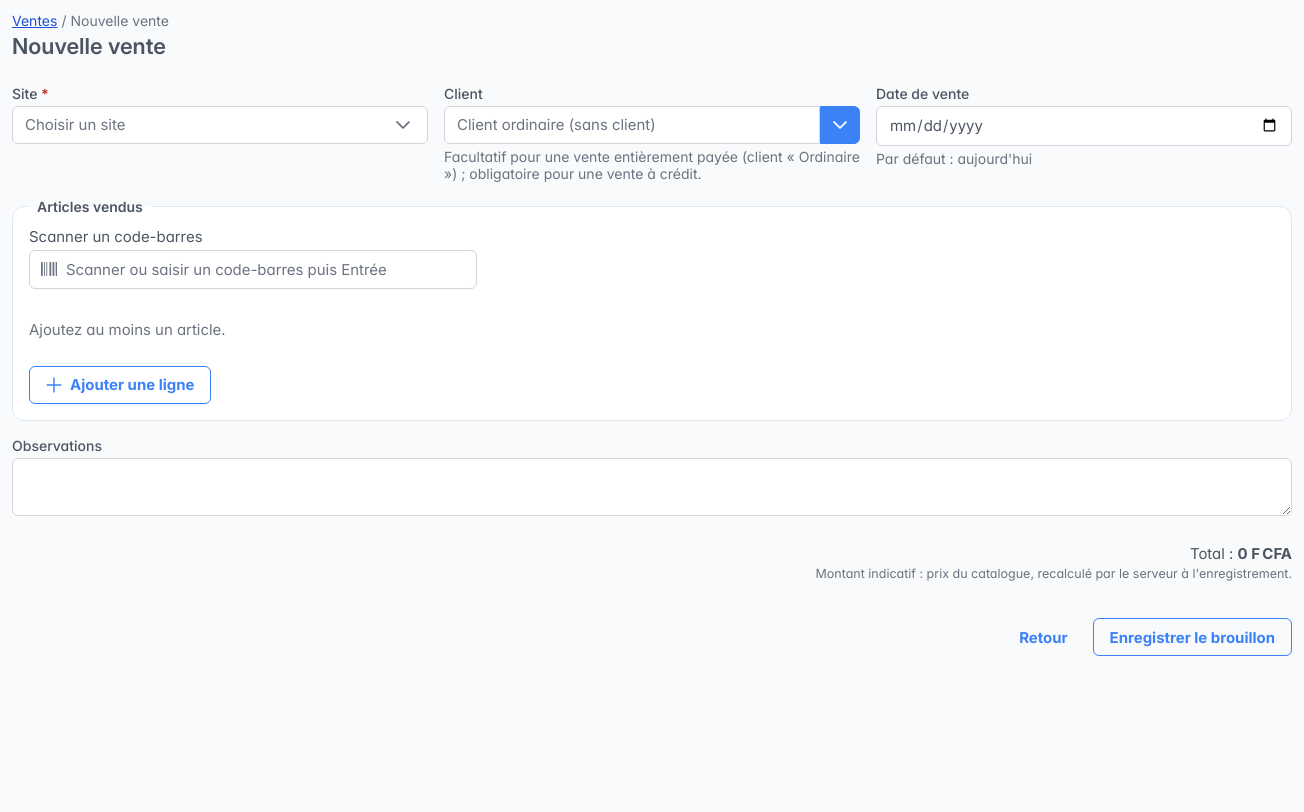
Scenario: scan des écrans opérationnels (Lot 3-D) › vente : conditionnement au prix non configuré refusé ; carton ajouté avec sa présentation
This screenshot has width=1304, height=812.
In the field labelled "Scanner un code-barres": (253, 269) x1=29 y1=250 x2=477 y2=289, type "F-1"
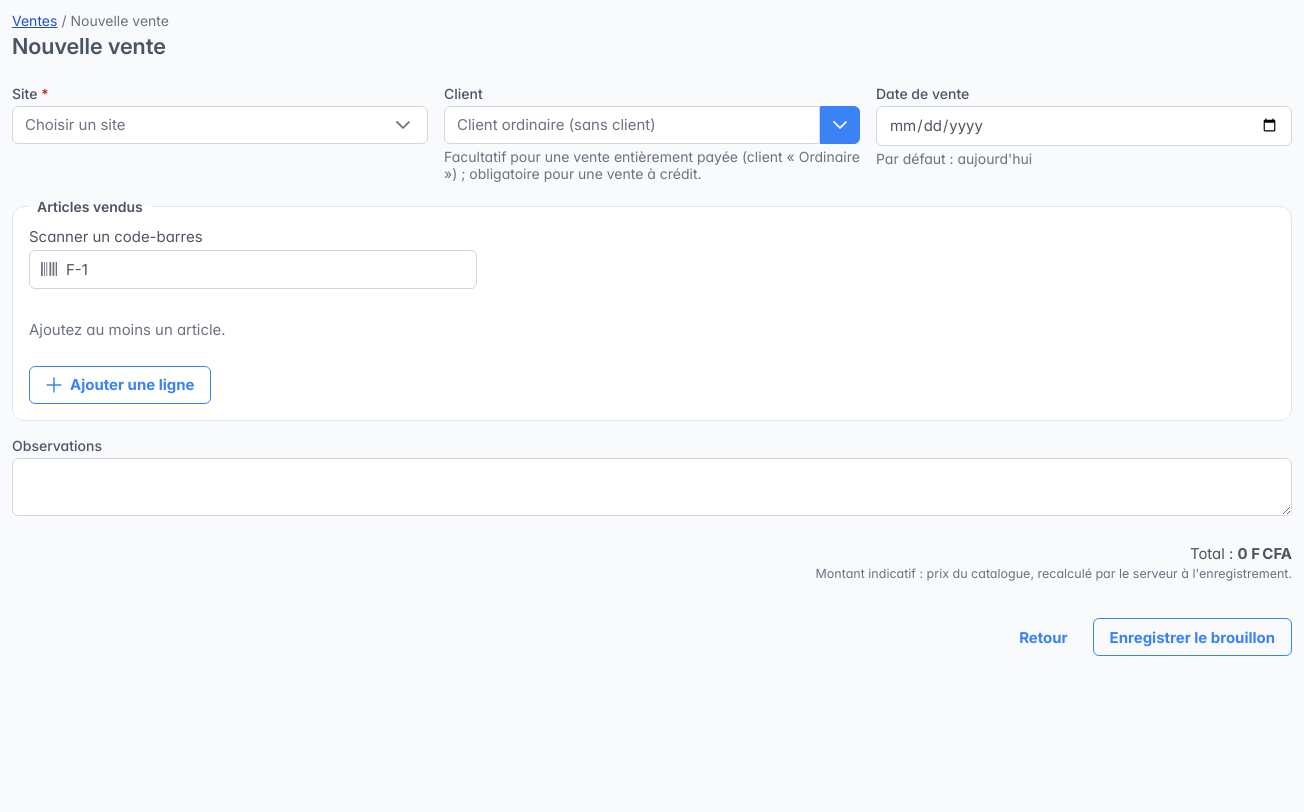
Press Enter in the field labelled "Scanner un code-barres", box x1=29 y1=250 x2=477 y2=289
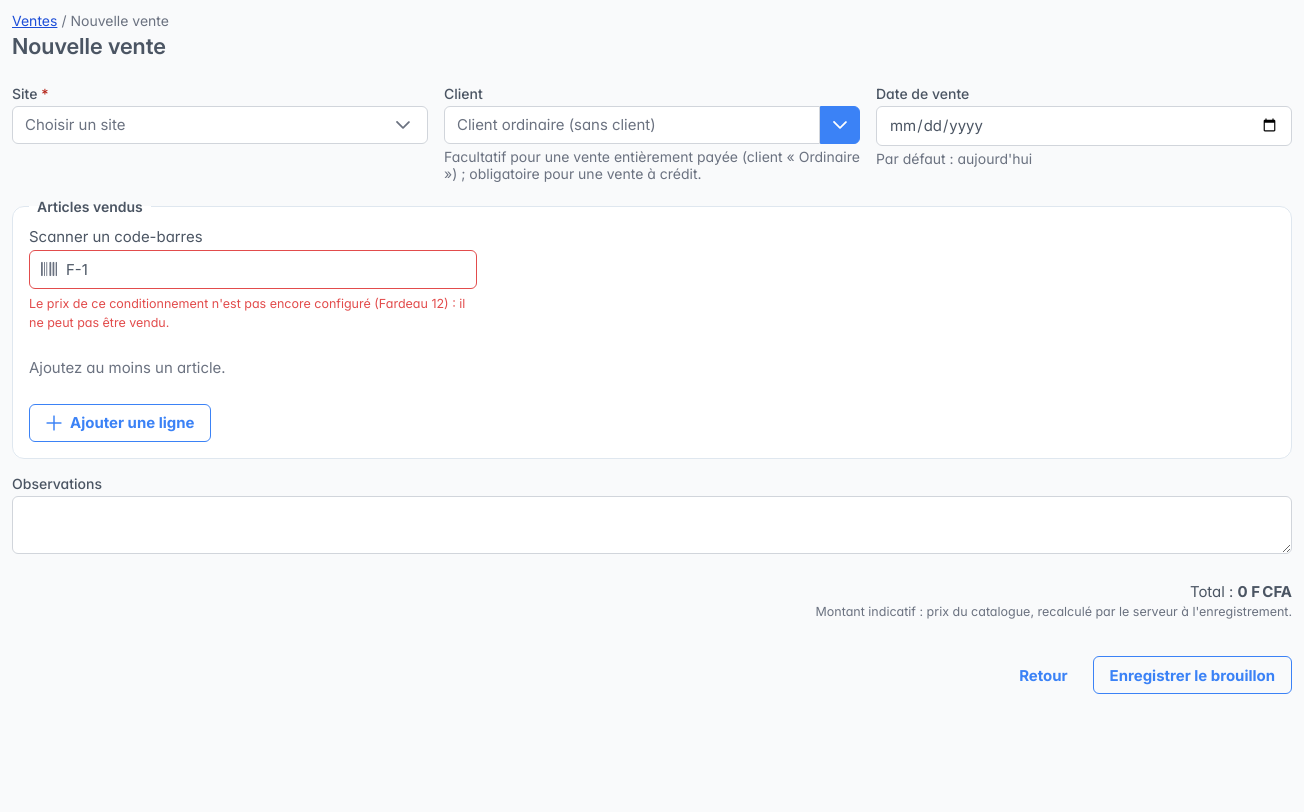
Expected: the text "Ajoutez au moins un article." is shown, x1=29 y1=358 x2=226 y2=377
Now the message shows "Le prix de ce conditionnement n'est pas encore configuré (Fardeau 12)", box x1=29 y1=296 x2=465 y2=330
Replace the text in the field labelled "Scanner un code-barres" with "C-1": (253, 269) x1=29 y1=250 x2=477 y2=289
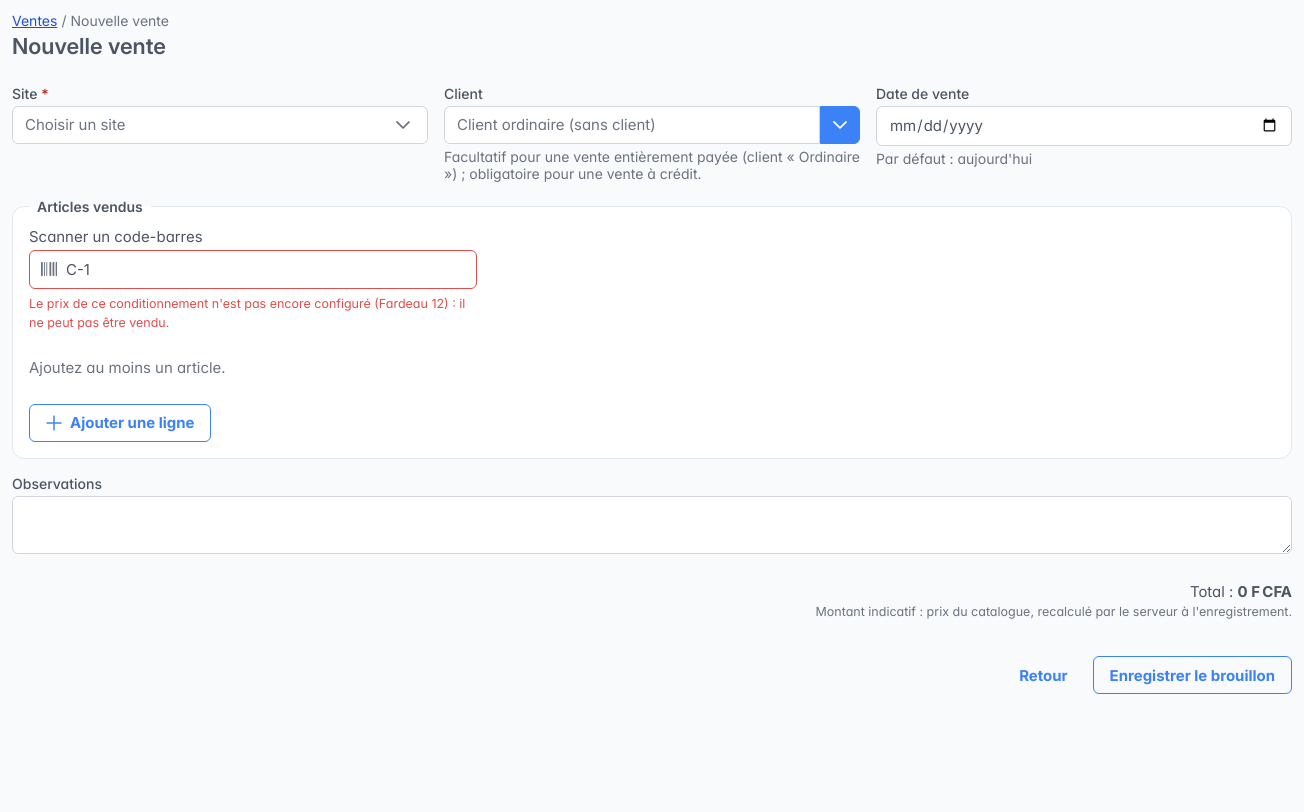
Press Enter in the field labelled "Scanner un code-barres", box x1=29 y1=250 x2=477 y2=289
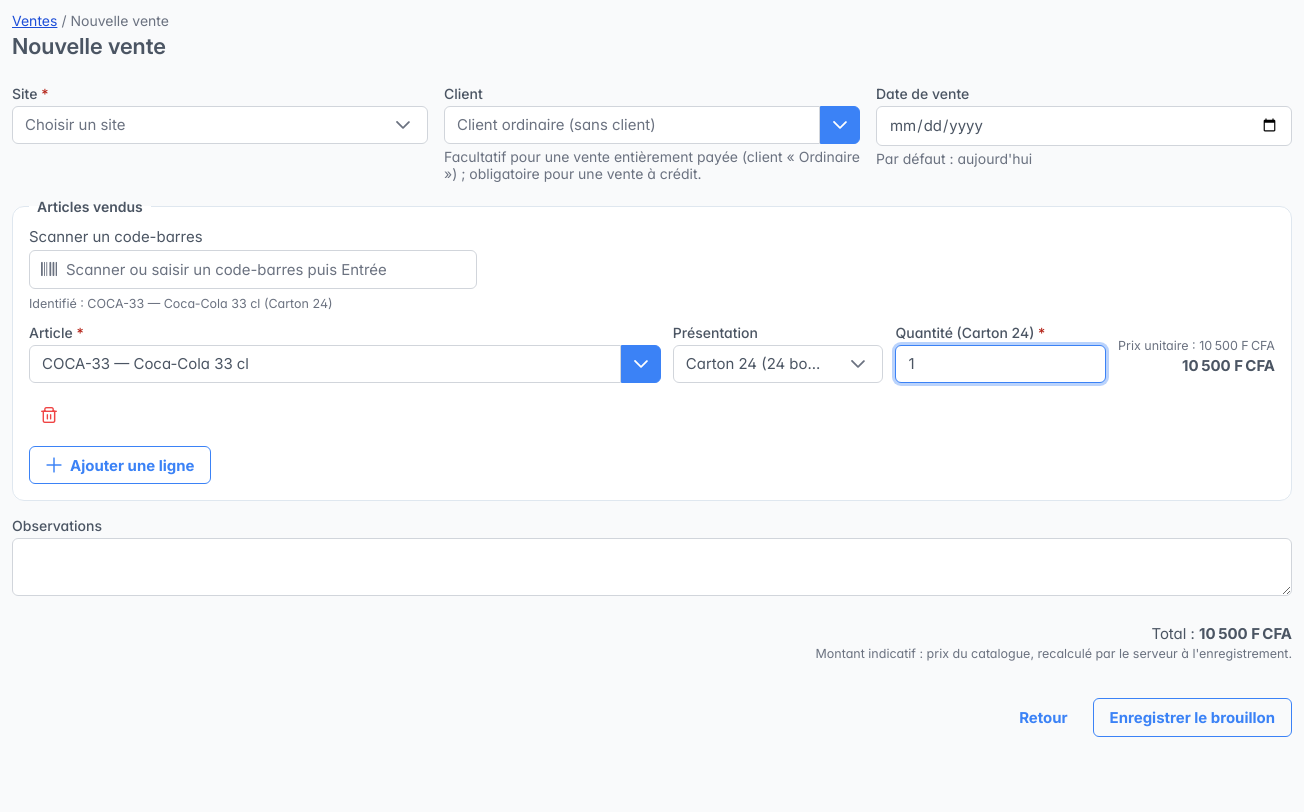
Now the field labelled "Quantité (Carton 24) *" holds "1", box x1=896 y1=345 x2=1106 y2=383
In the field labelled "Scanner un code-barres": (253, 269) x1=29 y1=250 x2=477 y2=289, type "C-1"
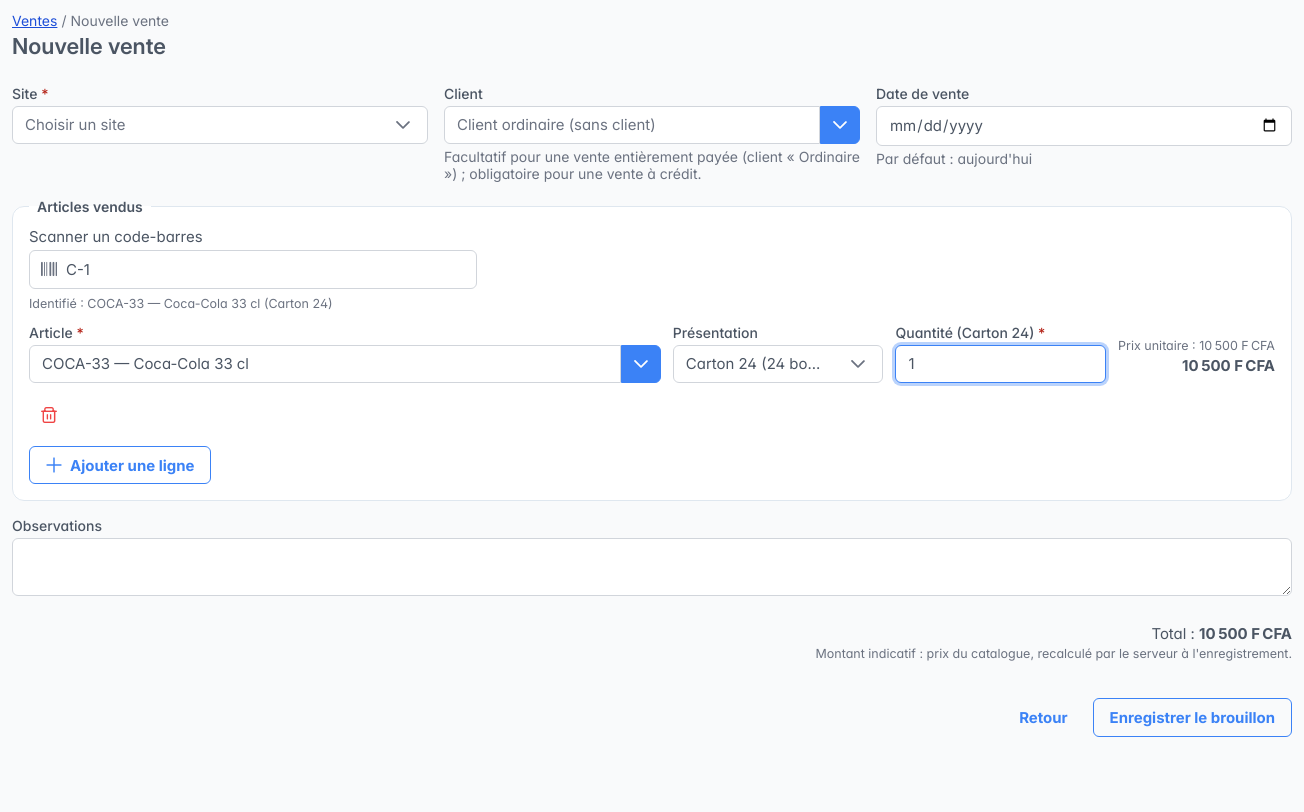
Press Enter in the field labelled "Scanner un code-barres", box x1=29 y1=250 x2=477 y2=289
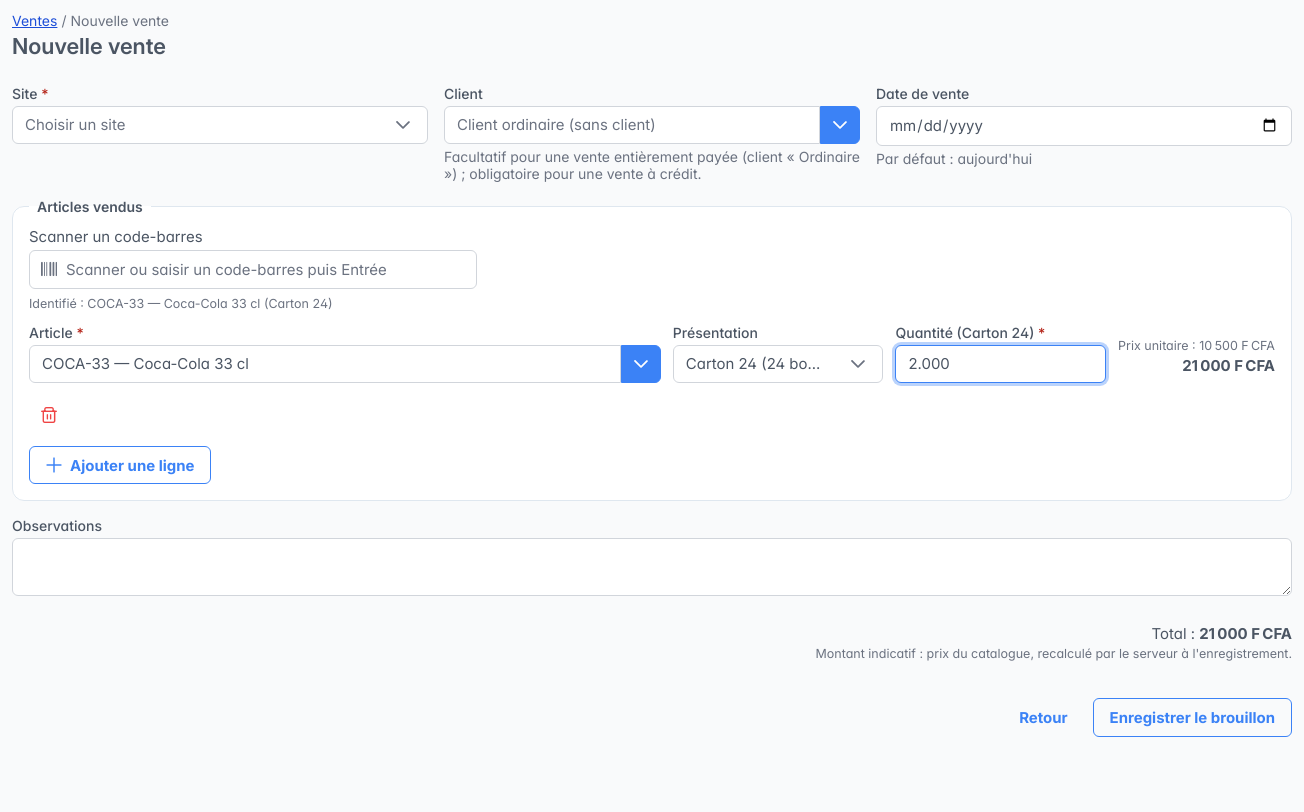
Now the field labelled "Quantité (Carton 24) *" holds "2.000", box x1=896 y1=345 x2=1106 y2=383
